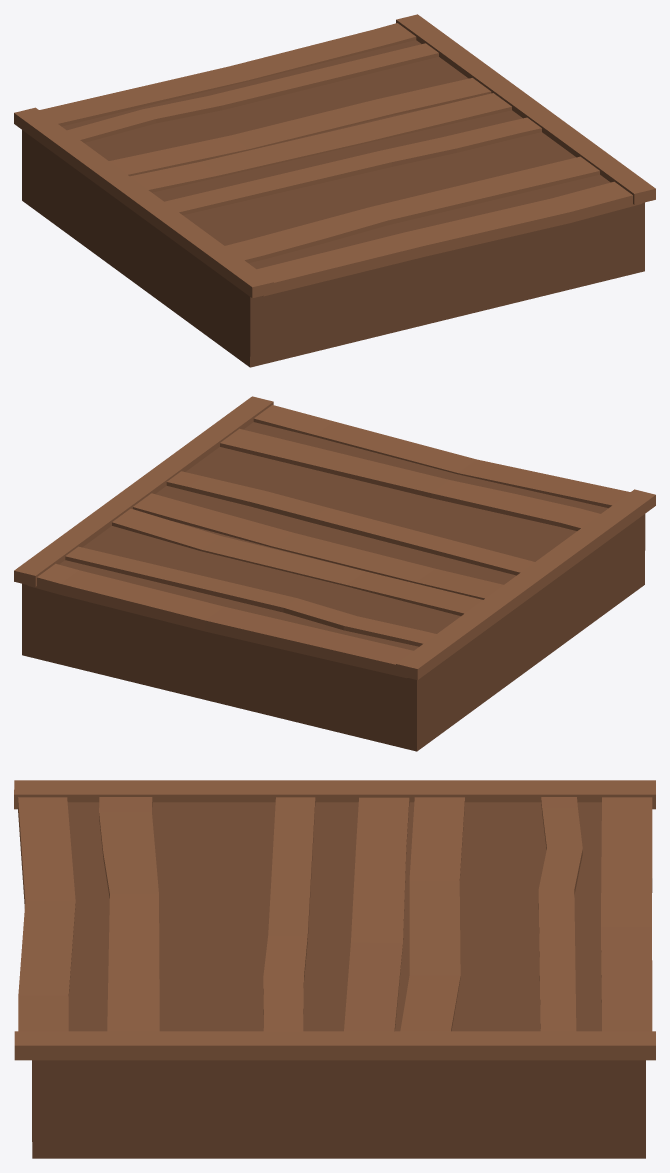
File: floorPlatform.fbx
3 views of the same model, one above another, from view 1: azimuth 30°, elevation 25°; view 2: azimuth 150°, elevation 25°; view 3: azimuth 270°, elevation 25° (orthographic). The views are drawn at different scales.
Visible parts, largest first — view 1: floor platform; view 2: floor platform; view 3: floor platform.
Boxes of the visible parts, <box> form: floor platform: <box>14,14,655,367</box>; floor platform: <box>14,396,655,751</box>; floor platform: <box>14,780,655,1158</box>.
Bounding box in the file's own units: 3718 × 759 × 3804.
